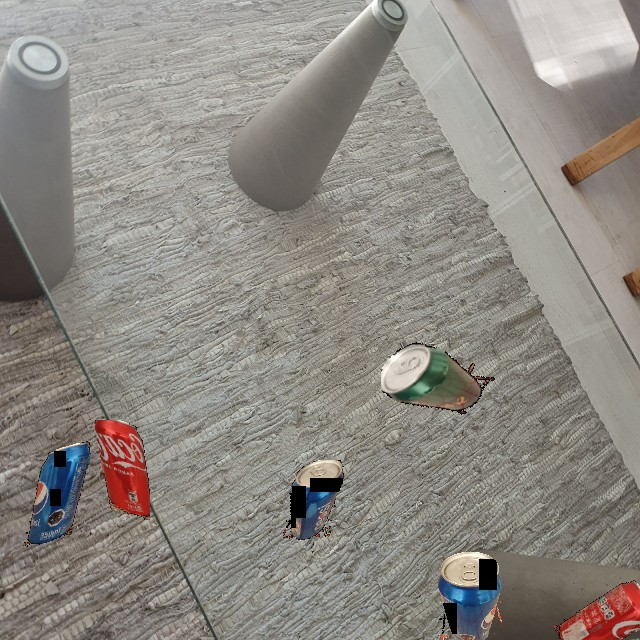coca cola: (94, 420, 150, 520), (554, 575, 640, 640)
pepsi: (22, 439, 94, 549), (438, 550, 503, 640), (283, 460, 347, 542)
schweppes: (381, 322, 499, 436)
